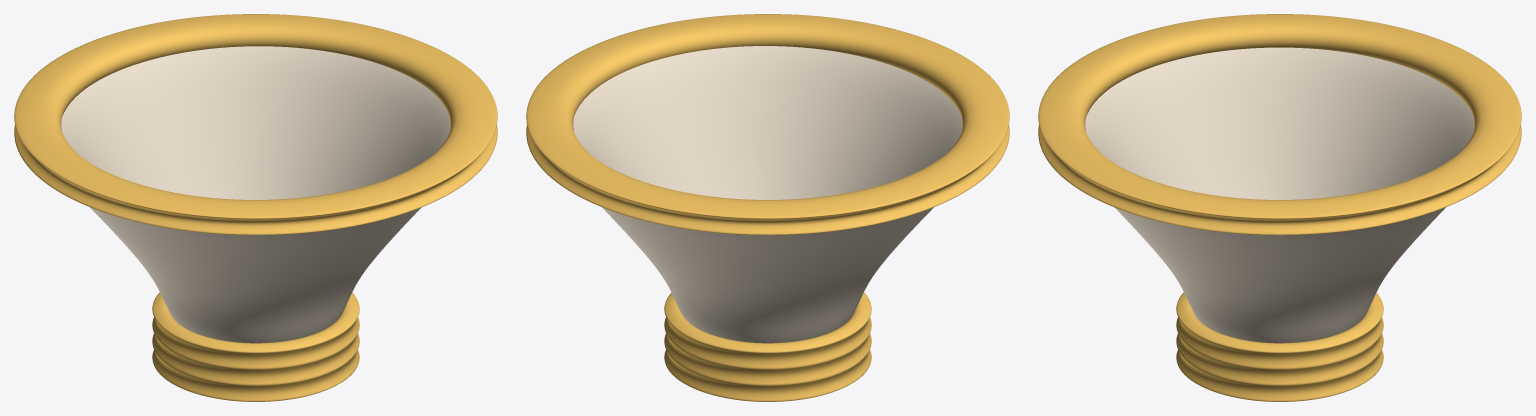
Rendered from bac_reserve.fbx.
3 views of the same model, side by side, from view 1: azimuth 30°, elevation 25°; view 2: azimuth 150°, elevation 25°; view 3: azimuth 270°, elevation 25° (orthographic).
Parts seen in each view (by area): view 1: Fabrique.002, Cylinder.031, Cylinder.010; view 2: Fabrique.002, Cylinder.031, Cylinder.010; view 3: Fabrique.002, Cylinder.031, Cylinder.010.
Boxes of the visible parts, x1,y1,x2,y2 form: Fabrique.002: (61, 46, 450, 343); Cylinder.031: (14, 14, 497, 235); Cylinder.010: (152, 292, 359, 401); Fabrique.002: (573, 46, 962, 343); Cylinder.031: (526, 14, 1009, 235); Cylinder.010: (664, 292, 871, 401); Fabrique.002: (1085, 47, 1474, 343); Cylinder.031: (1038, 14, 1521, 235); Cylinder.010: (1176, 292, 1383, 401).
Bounding box in the file's own units: 444 × 252 × 444.
